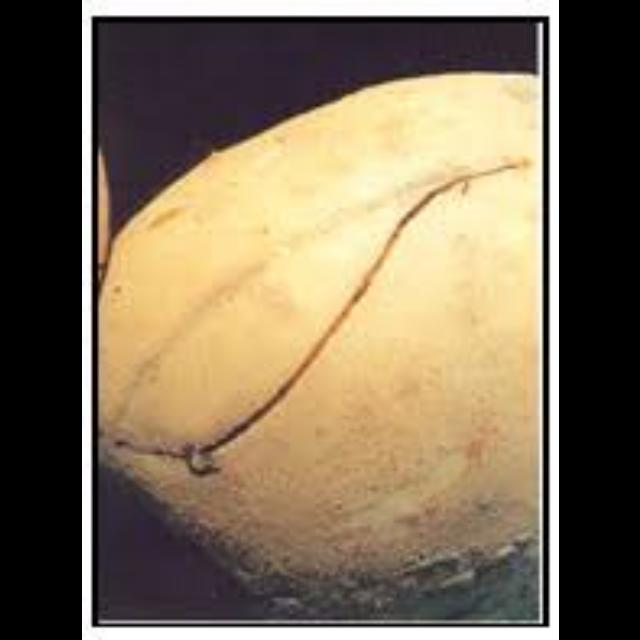Damaged potato: (109, 65, 549, 590)
